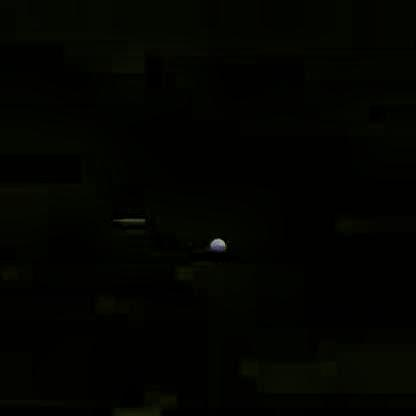golfball: (205, 235, 224, 256)
